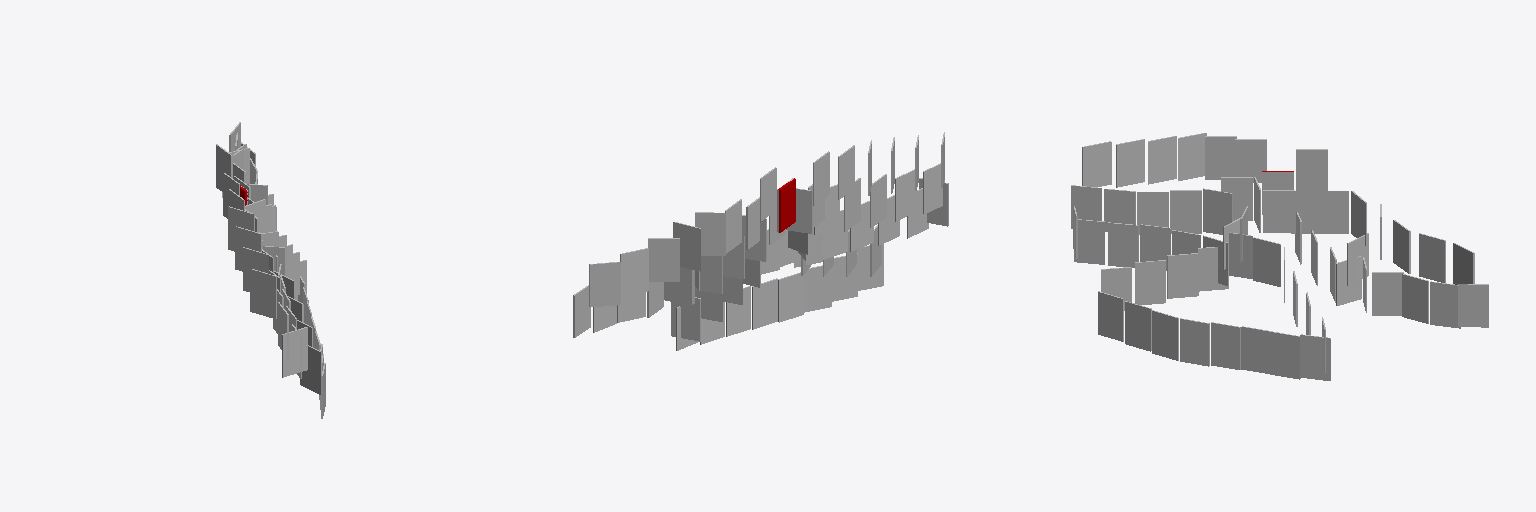
The model's file is mirror.obj.
3 views of the same model, side by side, from view 1: azimuth 30°, elevation 25°; view 2: azimuth 150°, elevation 25°; view 3: azimuth 270°, elevation 25° (orthographic).
Parts seen in each view (by area): view 1: frame.039, frame.041, frame.058, frame.036, frame.037, frame.011, frame.001; view 2: frame.033, frame.020, frame.031, frame.007, frame.052, frame.050, frame.049, frame.014, frame.026, frame.056, frame.038, frame.048 (+26 smaller); view 3: frame.054, frame.002, frame.001, frame.055, frame.034, frame.005, frame.029, frame.043, frame.048, frame.049, frame.050, frame.003 (+28 smaller).
Part boxes in pixels (left/top/right/bottom): frame.039: left=250, top=269, right=276, bottom=318; frame.041: left=282, top=327, right=307, bottom=377; frame.058: left=300, top=345, right=321, bottom=394; frame.036: left=235, top=226, right=261, bottom=271; frame.037: left=243, top=247, right=268, bottom=291; frame.011: left=228, top=206, right=254, bottom=251; frame.001: left=216, top=144, right=232, bottom=191; frame.033: left=589, top=262, right=620, bottom=307; frame.020: left=648, top=238, right=679, bottom=281; frame.031: left=620, top=248, right=648, bottom=296; frame.007: left=695, top=212, right=725, bottom=255; frame.052: left=804, top=265, right=831, bottom=312; frame.050: left=778, top=272, right=803, bottom=322; frame.049: left=752, top=278, right=777, bottom=329; frame.014: left=673, top=222, right=700, bottom=271; frame.026: left=671, top=297, right=700, bottom=341; frame.056: left=832, top=253, right=857, bottom=301; frame.038: left=895, top=169, right=916, bottom=221; frame.048: left=726, top=286, right=750, bottom=336; frame.054: left=1167, top=253, right=1198, bottom=298; frame.002: left=1170, top=190, right=1201, bottom=233; frame.001: left=1296, top=149, right=1327, bottom=190; frame.055: left=1135, top=260, right=1165, bottom=304; frame.034: left=1458, top=284, right=1488, bottom=327; frame.005: left=1318, top=191, right=1348, bottom=233; frame.029: left=1372, top=272, right=1403, bottom=315; frame.043: left=1108, top=222, right=1138, bottom=267; frame.048: left=1241, top=326, right=1270, bottom=374; frame.049: left=1211, top=322, right=1240, bottom=369; frame.050: left=1180, top=318, right=1209, bottom=366; frame.003: left=1205, top=136, right=1236, bottom=179.
Size of the model in its own units: 26.46 by 27.58 by 53.11.